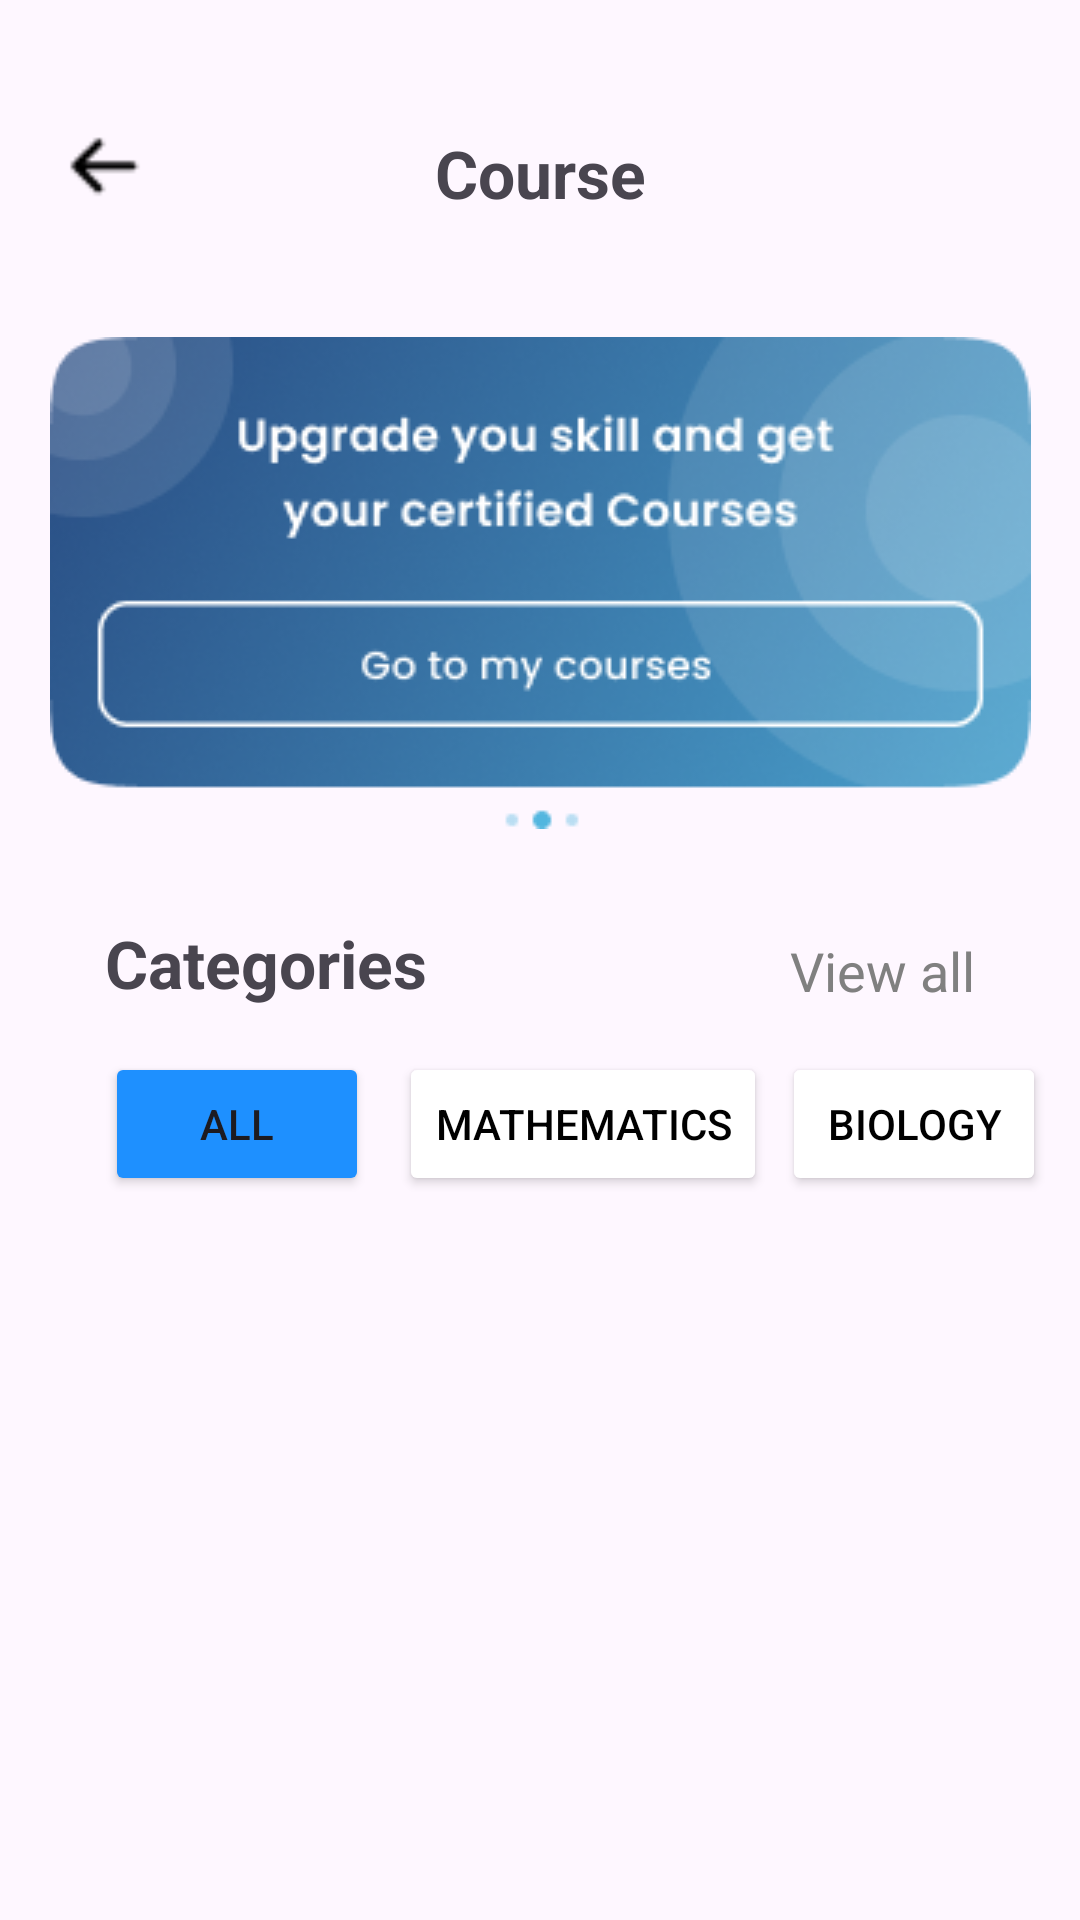

Named icons in this screenshot (1080 x 1920) and their centers, (x=x, y=y):
back: (x=104, y=166)
